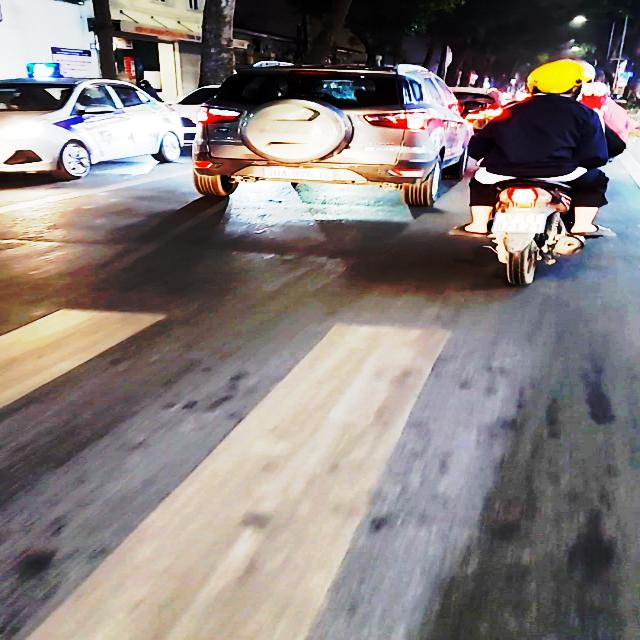license_plate: (488, 212, 551, 236), (262, 167, 339, 184)
